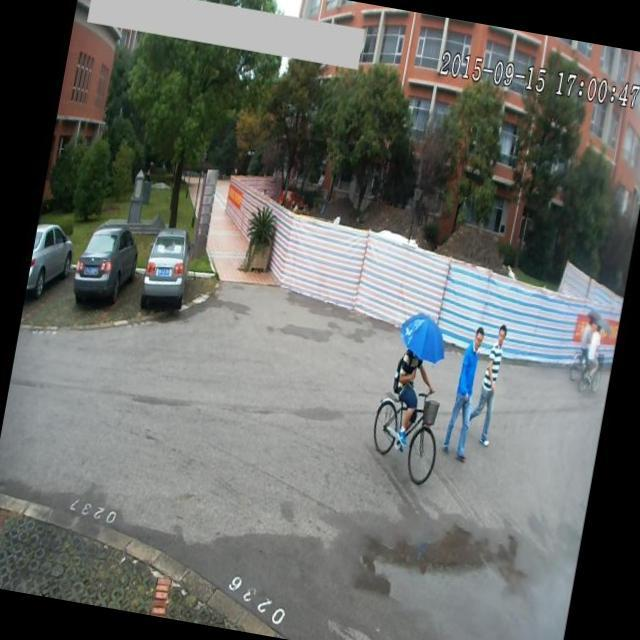person: (381, 292, 448, 452), (462, 314, 513, 469), (440, 322, 488, 468), (584, 324, 608, 384), (576, 301, 598, 358)
